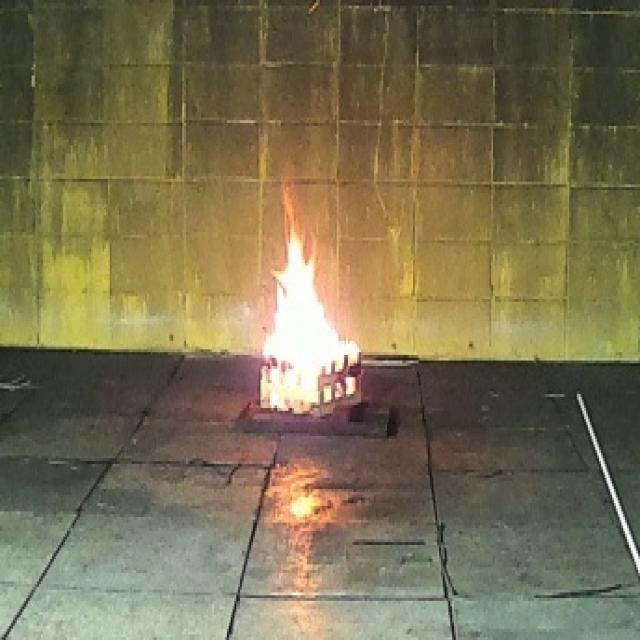Fire: (260, 182, 362, 416)
